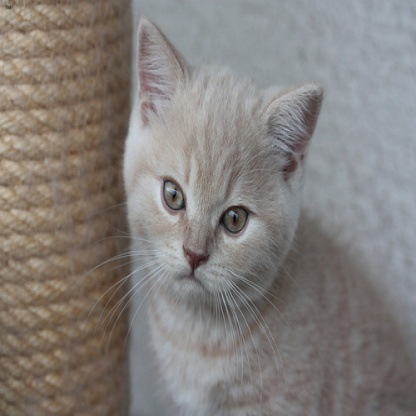british_shorthair: (118, 16, 413, 413)
